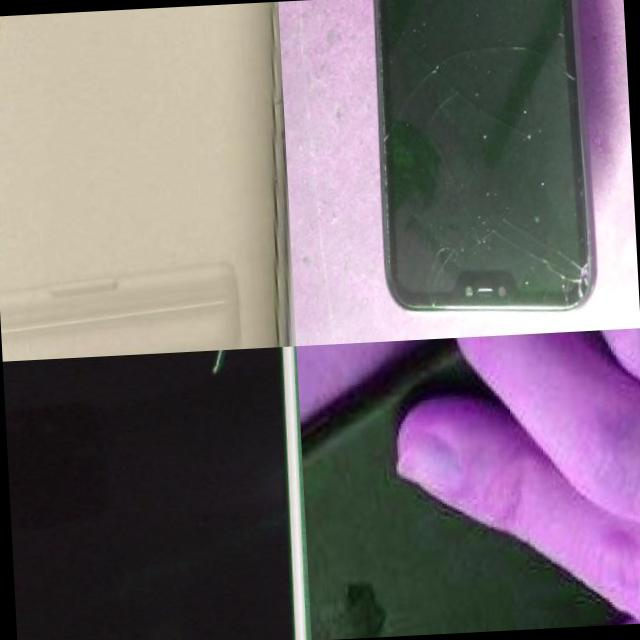scratch: (209, 348, 269, 382)
screen crack: (426, 8, 593, 150), (468, 177, 606, 330)
